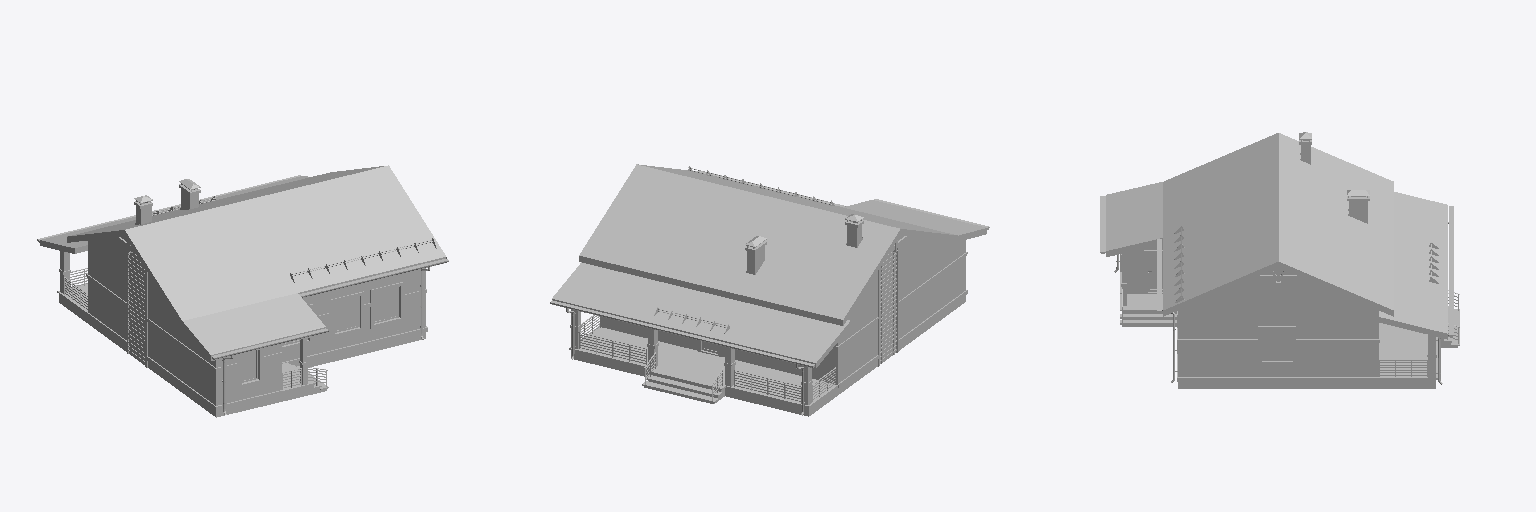
Rendered from Cottage.obj.
The picture shows the model from 3 angles: view 1: azimuth 30°, elevation 25°; view 2: azimuth 150°, elevation 25°; view 3: azimuth 270°, elevation 25°; orthographic projection.
Parts seen in each view (by area): view 1: Cottage_Free; view 2: Cottage_Free; view 3: Cottage_Free.
Part boxes in pixels (bbox=[...]): Cottage_Free: bbox=[37, 165, 448, 417]; Cottage_Free: bbox=[550, 164, 989, 416]; Cottage_Free: bbox=[1100, 132, 1459, 388].
Size of the model in its own units: 12.44 by 6.75 by 14.65.